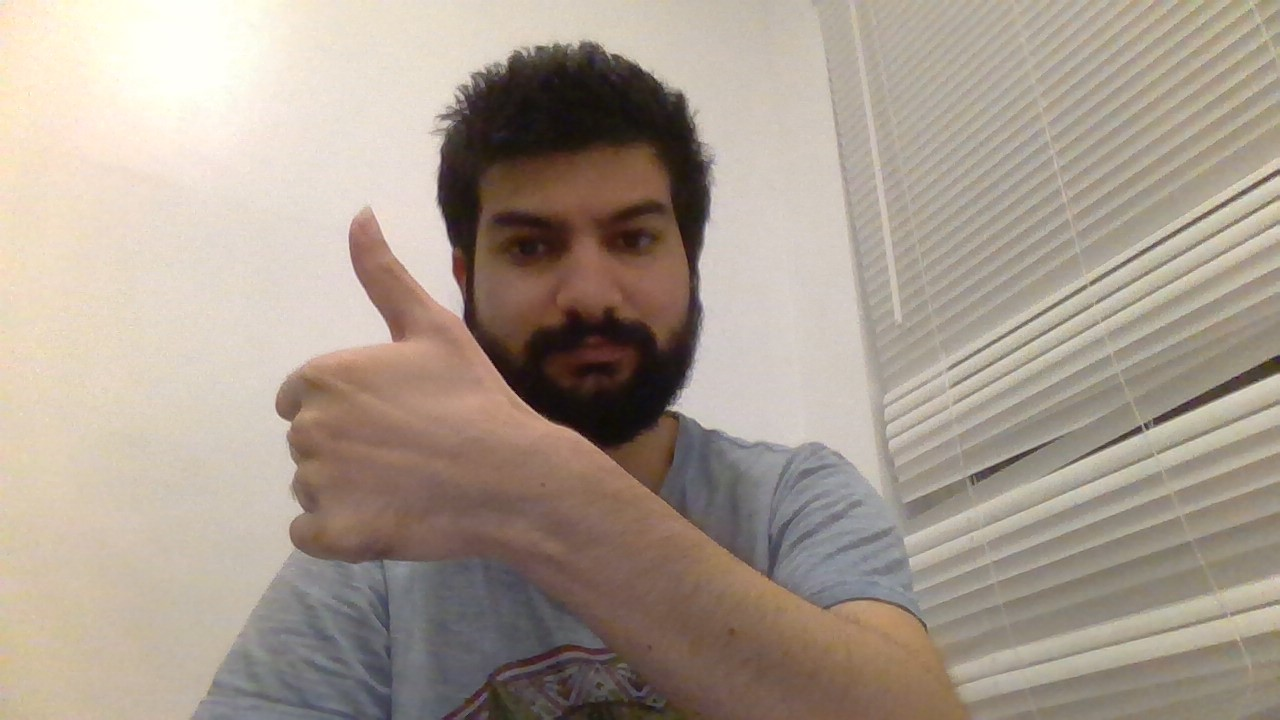up: (264, 194, 494, 572)
